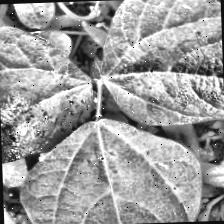ALS: (14, 115, 199, 224), (99, 0, 224, 129)
